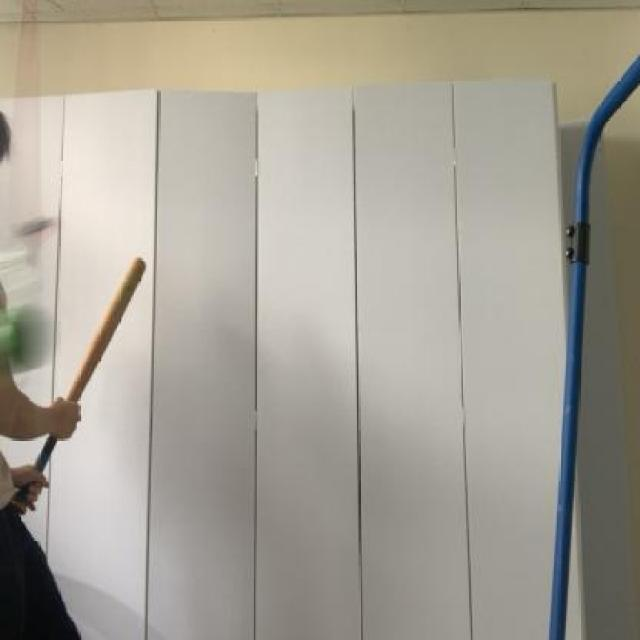baseball: (0, 289, 68, 388)
